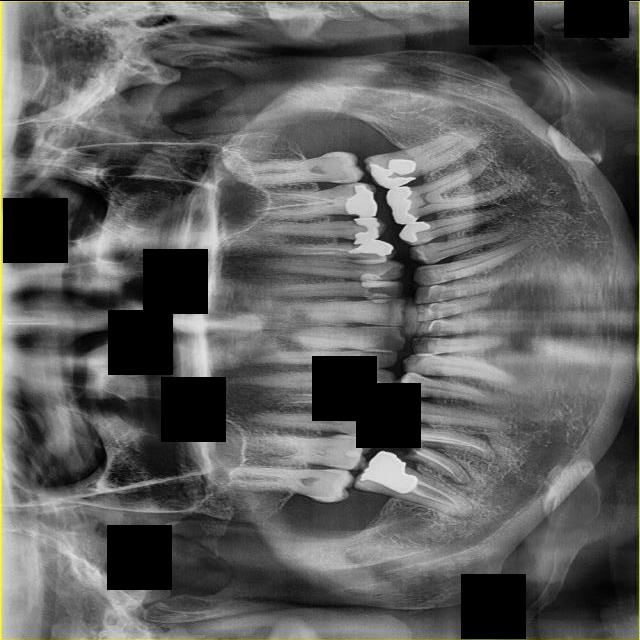74: (256, 192, 349, 217), (415, 447, 466, 482), (415, 429, 489, 453), (411, 478, 465, 510), (294, 390, 336, 399), (298, 246, 348, 251), (278, 399, 337, 403), (296, 251, 335, 255)
NucleOSS Implant: (360, 446, 425, 498), (369, 153, 420, 191), (385, 183, 419, 226), (396, 212, 432, 246), (338, 390, 385, 416), (344, 183, 378, 218), (381, 400, 421, 428), (347, 236, 394, 257), (353, 216, 380, 240), (336, 410, 371, 422)
Sterngold Implant: (383, 411, 427, 459), (334, 182, 356, 190), (344, 218, 356, 227), (419, 241, 434, 248), (415, 238, 429, 245), (442, 272, 456, 279), (336, 178, 351, 183), (425, 258, 438, 263)
Straumann Implant: (359, 271, 392, 281), (361, 279, 399, 287), (367, 290, 394, 300), (370, 297, 393, 303), (343, 448, 360, 456)
